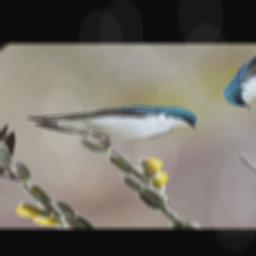Swallow: (23, 72, 207, 171)
